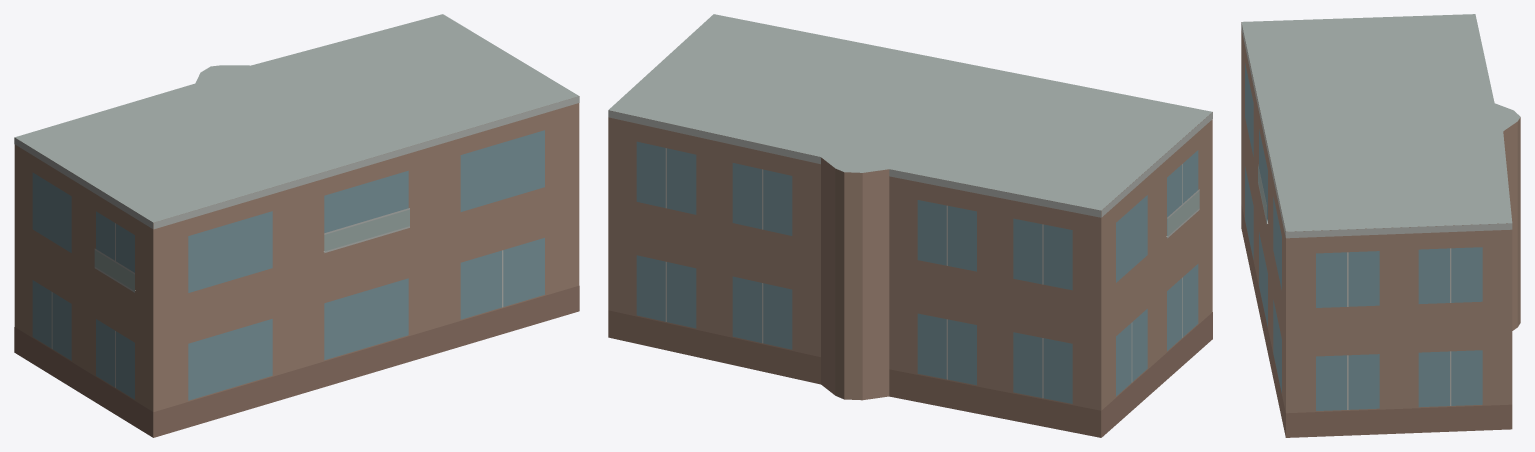
Rendered from survey-upis-32623888.glb.
The picture shows the model from 3 angles, left to right: view 1: azimuth 30°, elevation 25°; view 2: azimuth 150°, elevation 25°; view 3: azimuth 270°, elevation 25°; orthographic projection. The views are drawn at different scales.
Parts seen in each view (by area): view 1: survey-upis-32623888.tmp; view 2: survey-upis-32623888.tmp; view 3: survey-upis-32623888.tmp.
Part boxes in pixels (x1,y1,x2,y2): survey-upis-32623888.tmp: (14, 14, 579, 437); survey-upis-32623888.tmp: (608, 14, 1212, 437); survey-upis-32623888.tmp: (1241, 14, 1520, 437).
Size of the model in its own units: 17.46 by 7.7 by 9.46.
